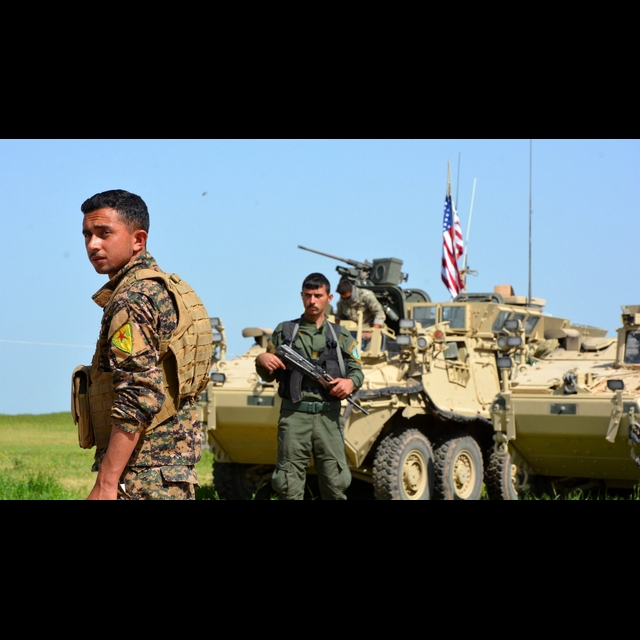AK47: (270, 346, 371, 418)
YPG: (108, 324, 136, 356)
